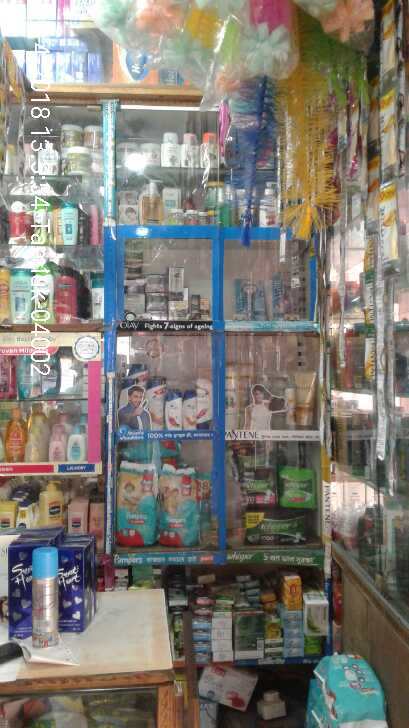venus: (234, 278, 268, 321), (274, 271, 303, 320)
